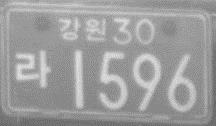0: (136, 17, 154, 45)
1: (65, 49, 93, 110)
3: (112, 18, 132, 45)
5: (99, 50, 128, 110)
6: (167, 54, 197, 113)
9: (132, 52, 163, 111)
강원_O: (58, 15, 106, 42)
라: (15, 49, 51, 87)
